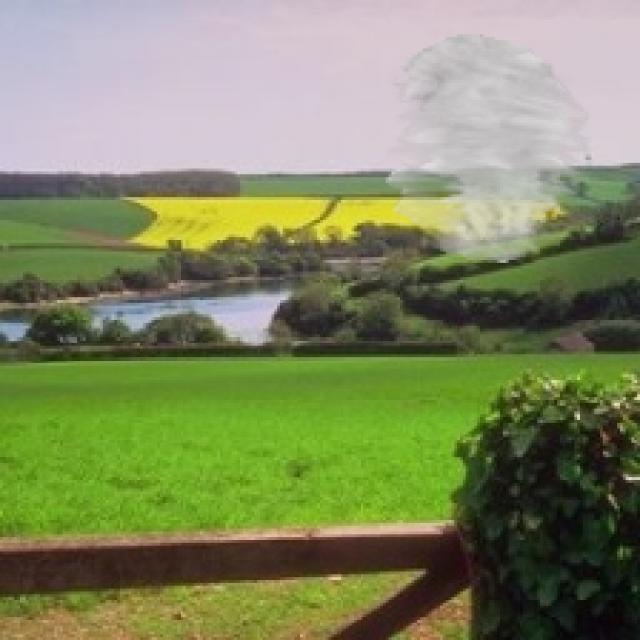Smoke: (386, 34, 592, 263)
